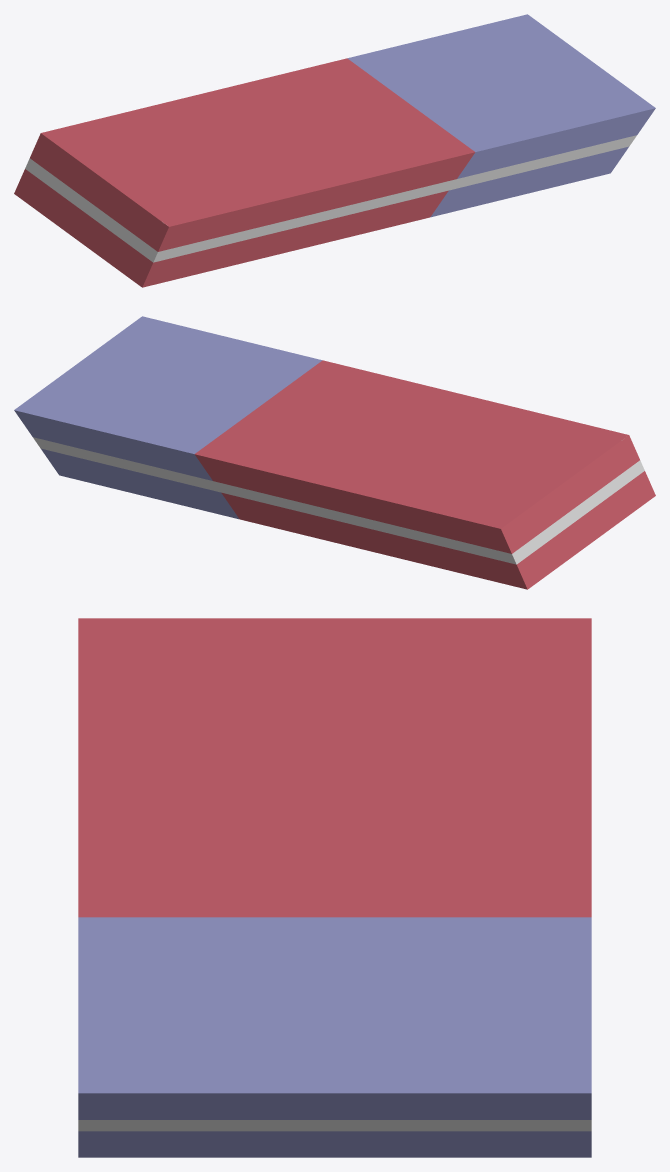
Rendered from gumica.fbx.
3 renders of one model, top to bottom at view 1: azimuth 30°, elevation 25°; view 2: azimuth 150°, elevation 25°; view 3: azimuth 270°, elevation 25°, orthographic. The views are drawn at different scales.
Visible parts, largest first — view 1: polySurface1; view 2: polySurface1; view 3: polySurface1.
Part boxes in pixels (x1,y1,x2,y2): polySurface1: (14,14,655,287); polySurface1: (14,316,655,589); polySurface1: (78,618,591,1157).
Size of the model in its own units: 82.65 by 35.75 by 8.34.
